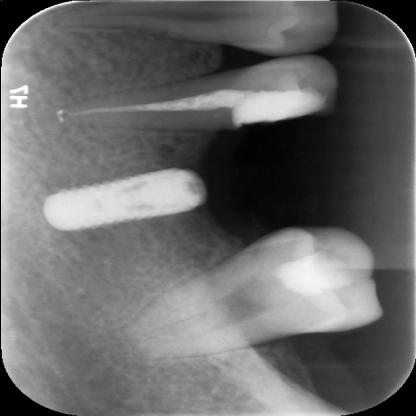ITI: (34, 158, 202, 236)
